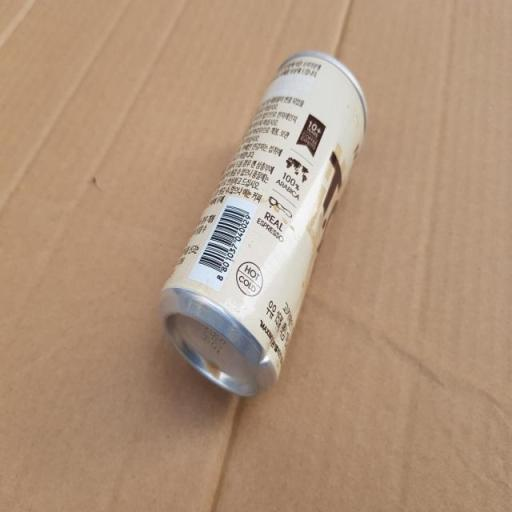metal: (139, 34, 369, 427)
